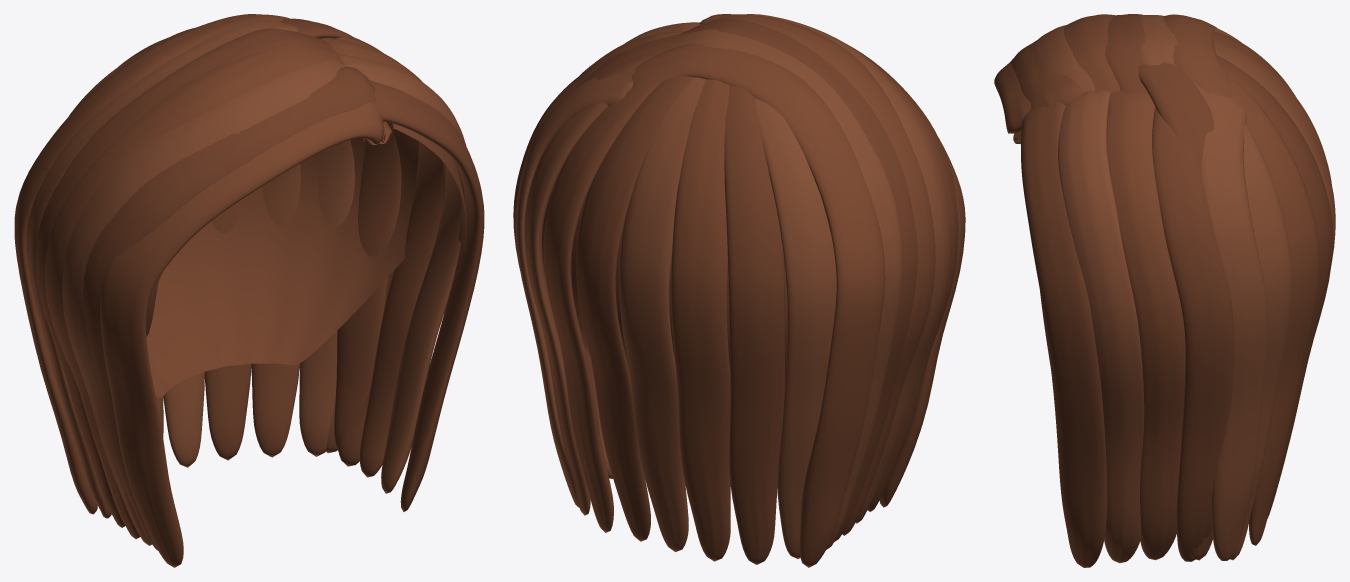
Rendered from Feminine-straight-ears261-hair.glb.
3 views of the same model, side by side, from view 1: azimuth 30°, elevation 25°; view 2: azimuth 150°, elevation 25°; view 3: azimuth 270°, elevation 25° (orthographic). The views are drawn at different scales.
Visible parts, largest first — view 1: 226 hair / Hair / sculpted 0.001, 226 hair / Hair / sculpted 1.002, 226 hair / Hair / sculpted 2.001, 226 hair / Hair / sculpted 1.001; view 2: 226 hair / Hair / sculpted 0.001, 226 hair / Hair / sculpted 2.001, 226 hair / Hair / sculpted 1.002, 226 hair / Hair / sculpted 1.001; view 3: 226 hair / Hair / sculpted 1.002, 226 hair / Hair / sculpted 2.001, 226 hair / Hair / sculpted 0.001.
Boxes of the visible parts, x1,y1,x2,y2 form: 226 hair / Hair / sculpted 0.001: [14, 14, 443, 567]; 226 hair / Hair / sculpted 1.002: [35, 18, 484, 550]; 226 hair / Hair / sculpted 2.001: [26, 19, 466, 545]; 226 hair / Hair / sculpted 1.001: [146, 123, 466, 397]; 226 hair / Hair / sculpted 0.001: [543, 15, 965, 567]; 226 hair / Hair / sculpted 2.001: [515, 14, 950, 558]; 226 hair / Hair / sculpted 1.002: [513, 14, 958, 564]; 226 hair / Hair / sculpted 1.001: [542, 179, 787, 381]; 226 hair / Hair / sculpted 1.002: [1011, 14, 1332, 567]; 226 hair / Hair / sculpted 2.001: [1033, 14, 1335, 563]; 226 hair / Hair / sculpted 0.001: [994, 14, 1331, 560].
Bounding box in the file's own units: 1.02 × 1.19 × 0.7721.
